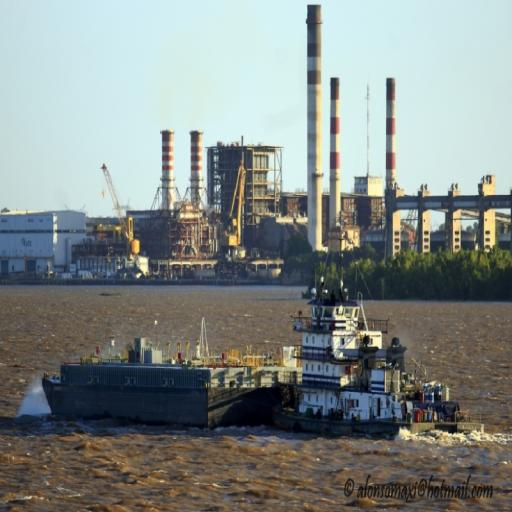tugboat: (260, 274, 488, 451)
